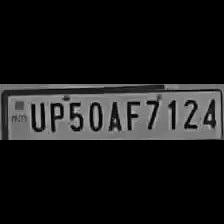0: (84, 98, 104, 132)
1: (162, 96, 178, 132)
2: (178, 96, 198, 130)
4: (198, 95, 218, 129)
5: (64, 98, 84, 132)
7: (141, 96, 161, 132)
A: (104, 97, 124, 133)
F: (122, 96, 142, 132)
P: (44, 99, 64, 134)
U: (26, 100, 46, 132)
